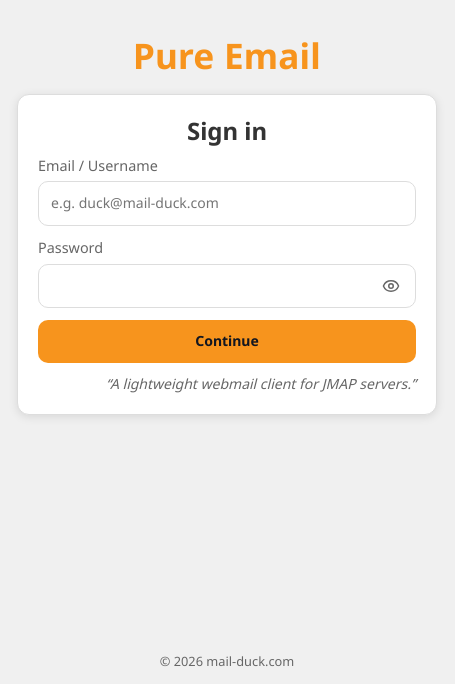
Test: LoginPage › shows safe, actionable error message: unexpected
This screenshot has width=455, height=684.
In the field labelled "Email / Username": (227, 204) [38,181,416,226], type "duck@mail-duck.com"
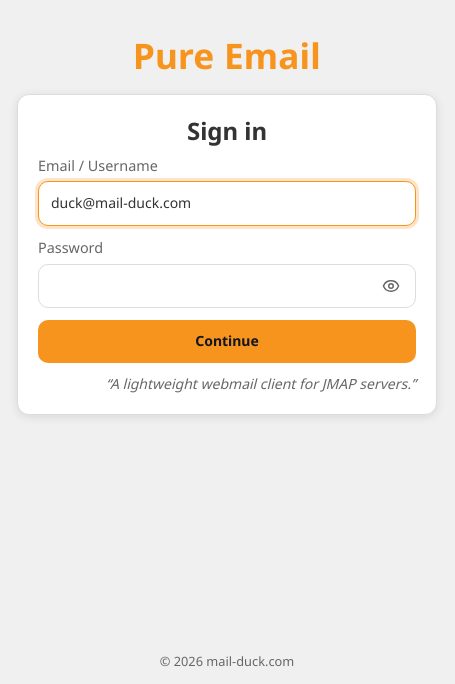
In the password field labelled "Password": (227, 286) [38,264,416,308], type "pw"
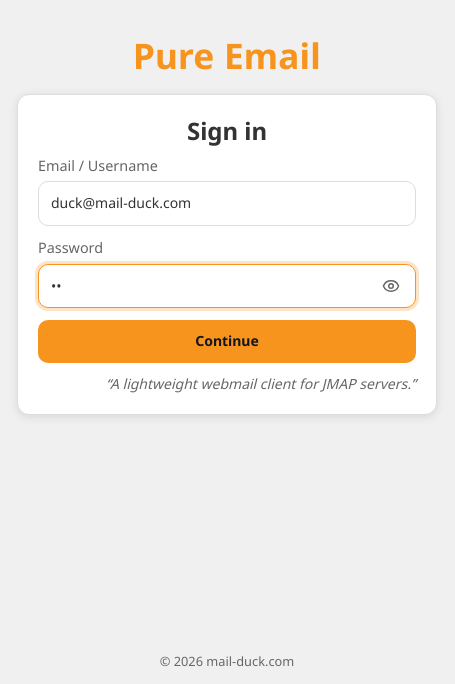
Click the button "Continue": (227, 342) [38,320,416,363]
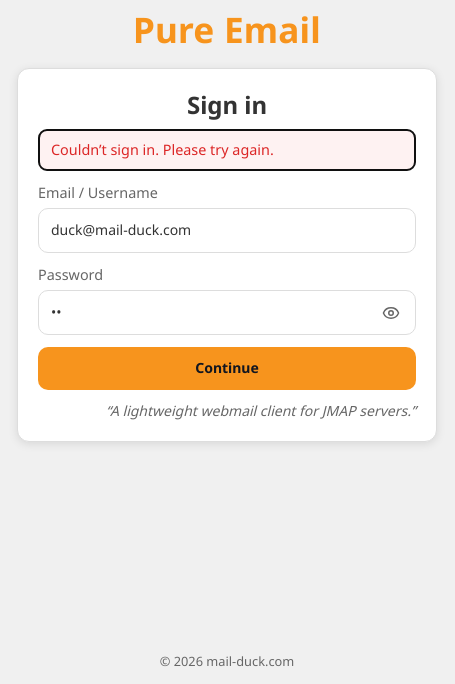
Result: the message "Couldn’t sign in. Please try again." is shown at [38,129,416,170]
Result: the message shows "Please try again" at [51,140,274,159]
